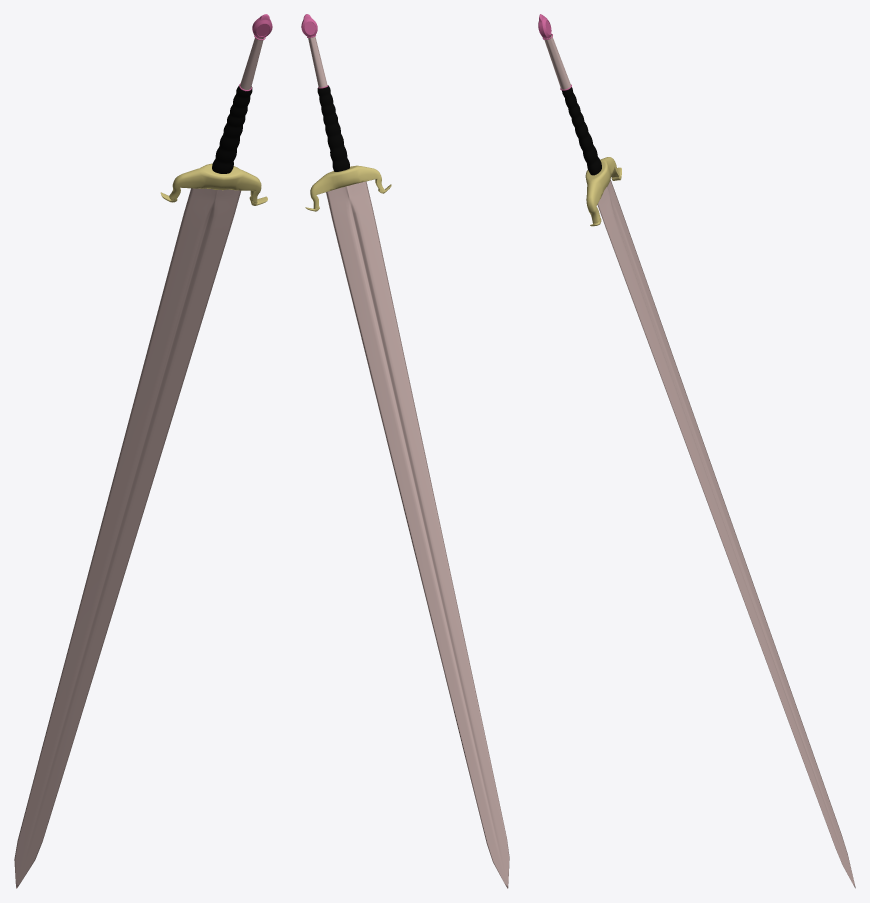
Rendered from sword.obj.
3 renders of one model, left to right at view 1: azimuth 30°, elevation 25°; view 2: azimuth 210°, elevation 25°; view 3: azimuth 270°, elevation 25°, orthographic. The views are drawn at different scales.
Parts seen in each view (by area): view 1: Blade_Cube, Hilt_Cylinder.001, Handle_Cylinder, Cylinder.002; view 2: Blade_Cube, Hilt_Cylinder.001, Handle_Cylinder, Cylinder.002; view 3: Blade_Cube, Hilt_Cylinder.001, Handle_Cylinder.
Part boxes in pixels (x1,y1,x2,y2): Blade_Cube: (14,188,240,888); Hilt_Cylinder.001: (160,163,267,205); Handle_Cylinder: (212,86,252,173); Cylinder.002: (240,37,263,89); Blade_Cube: (326,181,509,888); Hilt_Cylinder.001: (305,165,391,211); Handle_Cylinder: (317,85,349,171); Cylinder.002: (308,36,327,87); Blade_Cube: (597,180,855,888); Hilt_Cylinder.001: (585,157,621,226); Handle_Cylinder: (562,87,601,175).
Bounding box in the file's own units: 29.54 × 238 × 75.1.
